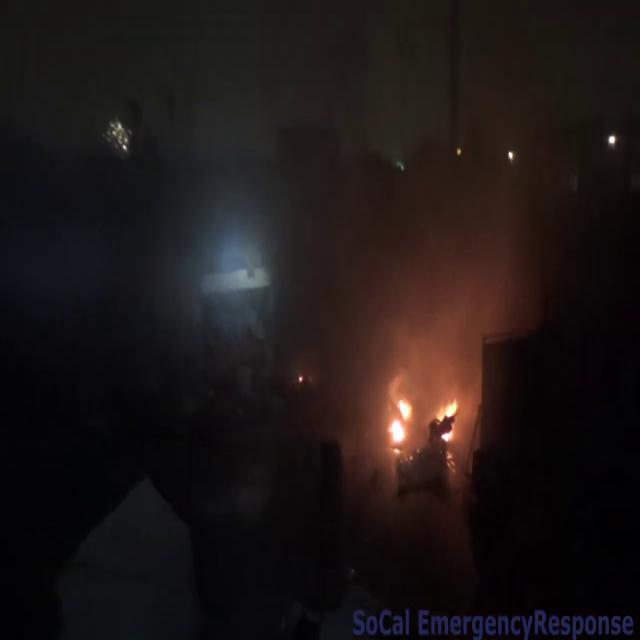Fire: (384, 374, 462, 456)
